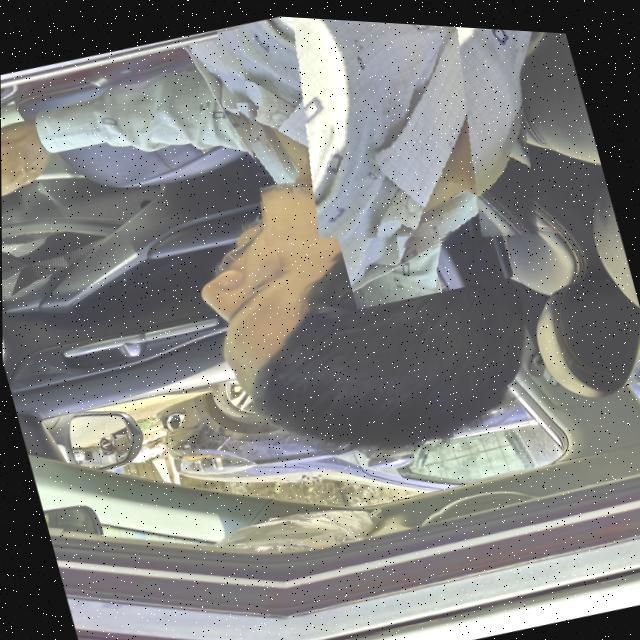no-seatbelt: (216, 10, 565, 286)
